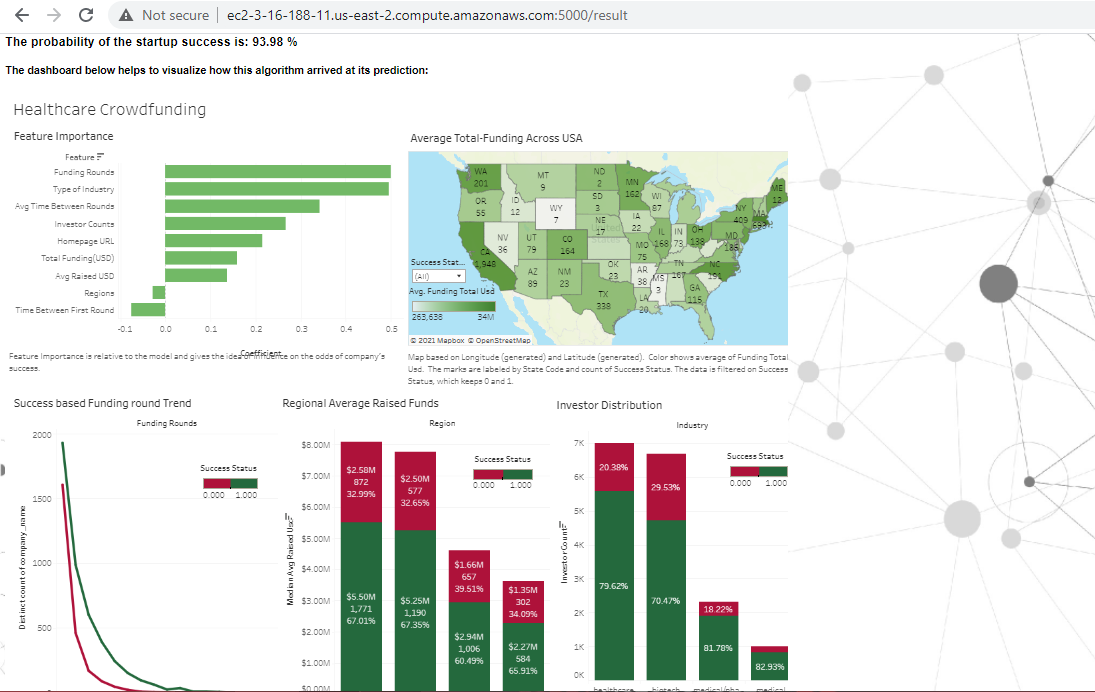

What the dashboard file says about the page in this screenshot:
{"tool":"tableau","page":{"name":"Dashboard 2","canvas":[1000,1000],"units":"permille","ordinal":0},"visuals":[{"type":"title","box":[6.2,8,987.7,42]},{"type":"worksheet","title":"Feature Importance","mark":"Bar","rows":["Feature"],"cols":["Coefficient"],"box":[6.2,50,493.8,399.9]},{"type":"worksheet","title":"Total Funding","mark":"Automatic","box":[500,50,493.9,399.9]},{"type":"filter","title":"Total Funding","param":"[federated.1y3fqoz1wjxeb413vmc3s1y5a753].[none:status_new:ok]","box":[507.7,249,70,40]},{"type":"legend","title":"Total Funding","param":"[federated.1y3fqoz1wjxeb413vmc3s1y5a753].[avg:funding_total_usd:qk]","box":[505.4,292,110.8,63]},{"type":"text","box":[5.4,386,478.5,45]},{"type":"worksheet","title":"Count of Funding Rounds","mark":"Automatic","rows":["funding_rounds"],"cols":["funding_rounds"],"box":[6.2,449.9,336.2,542.1]},{"type":"worksheet","title":"Regional avg and success","mark":"Bar","rows":["avg_raised_usd"],"cols":["Region"],"box":[342.4,449.9,340.3,542.1]},{"type":"worksheet","title":"Investor distribution (2)","mark":"Bar","rows":["investor_count"],"cols":["cat_new"],"box":[682.6,449.9,311.2,542.1]},{"type":"legend","title":"Investor distribution (2)","param":"[federated.1y3fqoz1wjxeb413vmc3s1y5a753].[none:status_new:qk]","box":[902.7,540,79.1,71.2]},{"type":"legend","title":"Regional avg and success","param":"[federated.1y3fqoz1wjxeb413vmc3s1y5a753].[none:status_new:qk]","box":[581.8,543.8,80.9,72.5]},{"type":"legend","title":"Count of Funding Rounds","param":"[federated.1y3fqoz1wjxeb413vmc3s1y5a753].[none:status_new:ok]","box":[240,556.2,80,73.8]}]}

Visuals, with their boxes on the dashboard's canvas, which has no fixed pixel size, in thousandths of its width and height (x1, y1, x2, y2). These are canvas units, not pixel positions in the 1095x692 screenshot, which may show the page scaled, cropped or inside an application window:
title: (left=6, top=8, right=994, bottom=50)
"Feature Importance" worksheet (Bar marks): (left=6, top=50, right=500, bottom=450)
"Total Funding" worksheet: (left=500, top=50, right=994, bottom=450)
"Total Funding" filter: (left=508, top=249, right=578, bottom=289)
"Total Funding" legend: (left=505, top=292, right=616, bottom=355)
text: (left=5, top=386, right=484, bottom=431)
"Count of Funding Rounds" worksheet: (left=6, top=450, right=342, bottom=992)
"Regional avg and success" worksheet (Bar marks): (left=342, top=450, right=683, bottom=992)
"Investor distribution (2)" worksheet (Bar marks): (left=683, top=450, right=994, bottom=992)
"Investor distribution (2)" legend: (left=903, top=540, right=982, bottom=611)
"Regional avg and success" legend: (left=582, top=544, right=663, bottom=616)
"Count of Funding Rounds" legend: (left=240, top=556, right=320, bottom=630)
